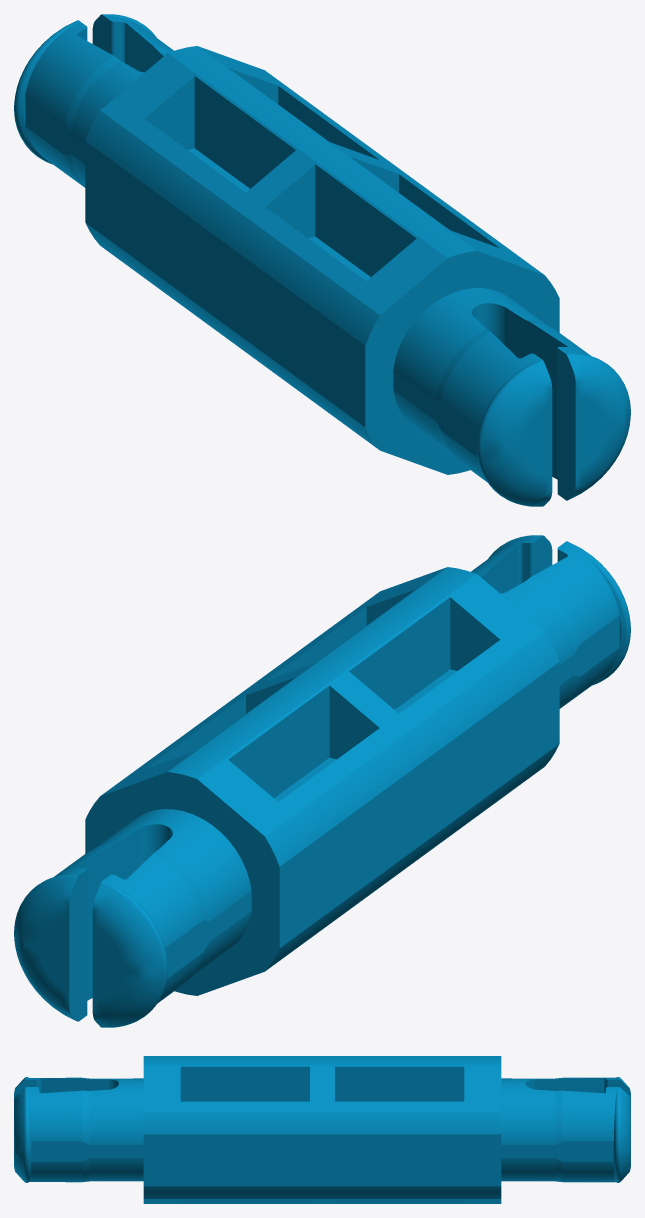
The picture shows the model from 3 angles, top to bottom: view 1: azimuth 30°, elevation 25°; view 2: azimuth 150°, elevation 25°; view 3: azimuth 270°, elevation 25°; orthographic projection. The views are drawn at different scales.
Visible parts, largest first — view 1: main_004c97; view 2: main_004c97; view 3: main_004c97.
Part boxes in pixels (x1=…): main_004c97: x1=14, y1=14, x2=630, y2=506; main_004c97: x1=14, y1=535, x2=630, y2=1027; main_004c97: x1=14, y1=1056, x2=630, y2=1203.
Size of the model in its own units: 5.8 by 6.24 by 24.98.
